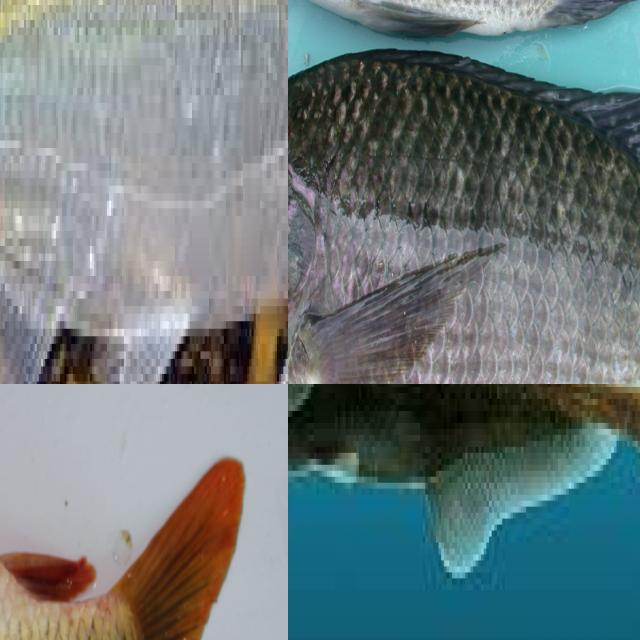fish: (0, 0, 288, 384), (288, 384, 640, 640), (0, 445, 288, 640), (288, 0, 640, 82)
